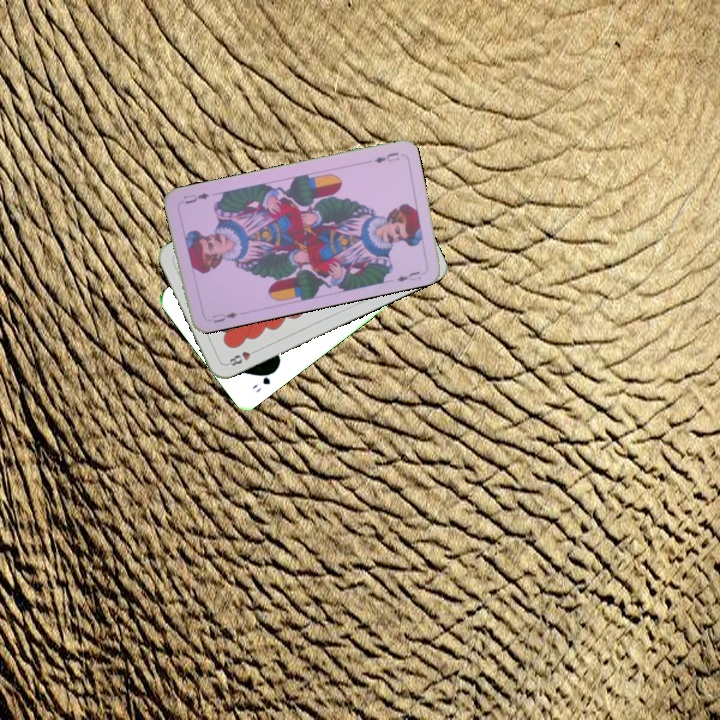EU: (208, 308, 240, 326), (371, 148, 402, 166)
GO: (248, 365, 279, 395)
H8: (223, 345, 261, 368)
